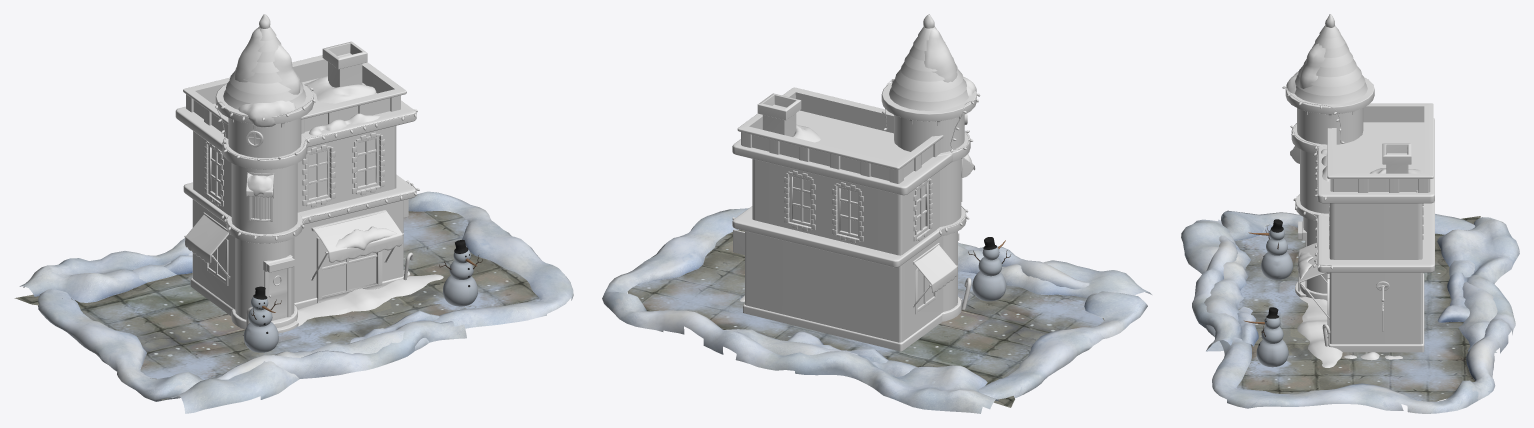
File: Snow_building.fbx
The picture shows the model from 3 angles, left to right: view 1: azimuth 30°, elevation 25°; view 2: azimuth 150°, elevation 25°; view 3: azimuth 270°, elevation 25°; orthographic projection. The views are drawn at different scales.
Parts seen in each view (by area): view 1: Mesh_3, Mesh_1.006, Mesh_1.005, Mesh_1.002, Mesh_1.008, Mesh_0.004, Mesh_0, Mesh_0.003; view 2: Mesh_3, Mesh_1.006, Mesh_1.005, Mesh_1.002, Mesh_0, Mesh_0.003; view 3: Mesh_3, Mesh_1.006, Mesh_1.005, Mesh_1.008, Mesh_1.002, Mesh_0, Mesh_0.004, Mesh_0.003.
Part boxes in pixels (x1,y1,x2,y2): Mesh_3: (175,14,416,333); Mesh_1.006: (19,191,573,413); Mesh_1.005: (14,211,540,400); Mesh_1.002: (234,28,396,250); Mesh_1.008: (296,270,443,326); Mesh_0.004: (439,240,482,306); Mesh_0: (244,286,281,352); Mesh_0.003: (215,85,419,326); Mesh_3: (732,14,976,351); Mesh_1.006: (602,208,1151,413); Mesh_1.005: (628,229,1103,407); Mesh_1.002: (792,28,976,162); Mesh_0: (968,237,1010,301); Mesh_0.003: (882,78,980,309); Mesh_3: (1285,14,1434,352); Mesh_1.006: (1181,210,1519,413); Mesh_1.005: (1235,216,1480,401); Mesh_1.008: (1297,297,1402,367); Mesh_1.002: (1286,28,1422,279); Mesh_0: (1248,219,1293,279); Mesh_0.004: (1244,307,1288,367); Mesh_0.003: (1282,85,1344,346).
Size of the model in its own units: 6202 by 4161 by 4515.
